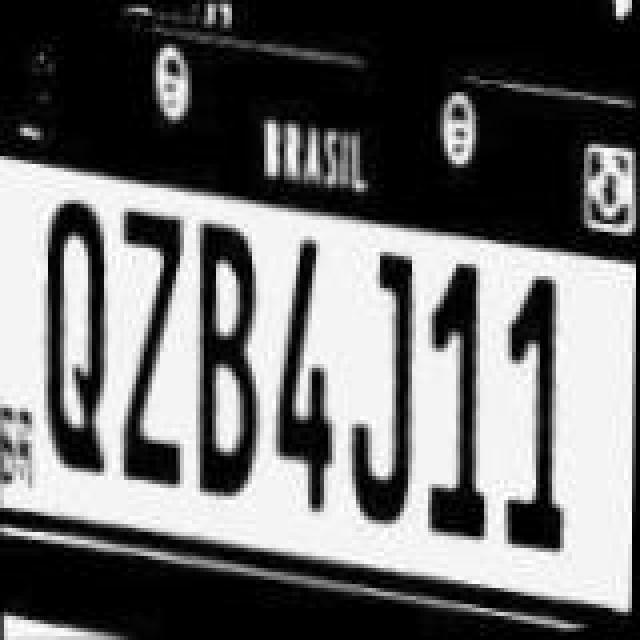1: (496, 270, 576, 554), (418, 266, 490, 538)
4: (266, 232, 354, 516)
B: (188, 220, 272, 496)
J: (342, 250, 422, 526)
Q: (34, 200, 118, 472)
Z: (114, 208, 190, 484)
